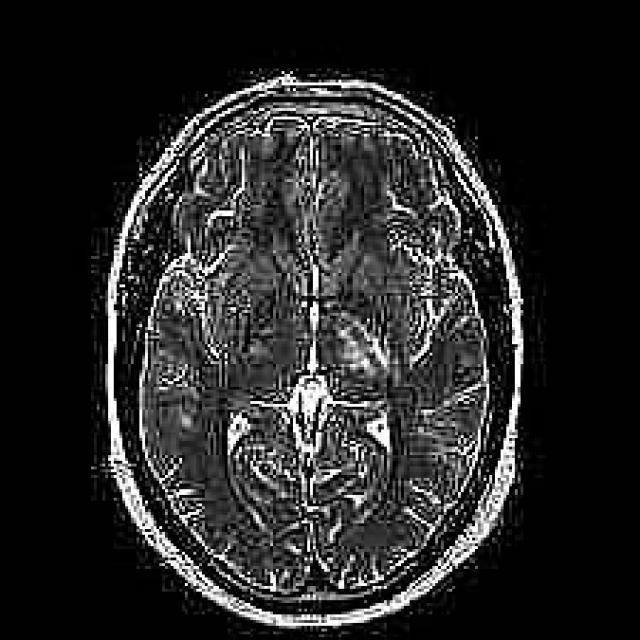notumor: (102, 77, 526, 634)
